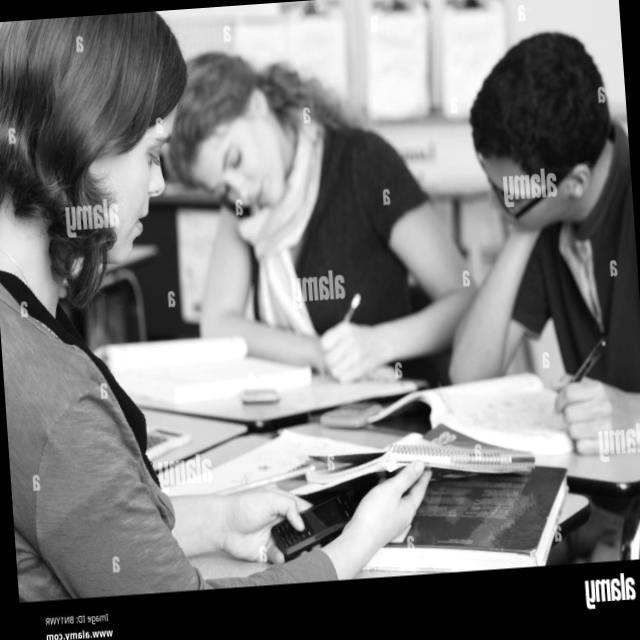phone: (266, 469, 388, 564)
